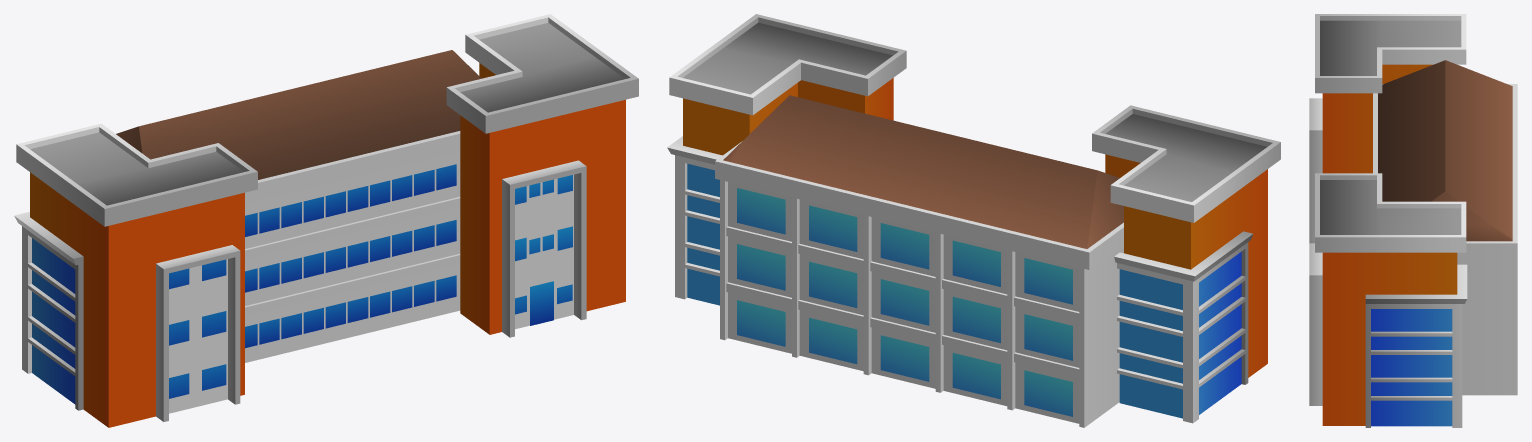
The model's file is Gedung Kedua Deli.fbx.
The picture shows the model from 3 angles, left to right: view 1: azimuth 30°, elevation 25°; view 2: azimuth 150°, elevation 25°; view 3: azimuth 270°, elevation 25°; orthographic projection. The views are drawn at different scales.
Visible parts, largest first — view 1: Gedung Kedua Deli; view 2: Gedung Kedua Deli; view 3: Gedung Kedua Deli.
Part boxes in pixels (<box>): Gedung Kedua Deli: <box>14,14,638,427</box>; Gedung Kedua Deli: <box>667,14,1280,427</box>; Gedung Kedua Deli: <box>1309,14,1517,427</box>.
Bounding box in the file's own units: 3160 × 1260 × 1240.
1 material, 1 textured.
